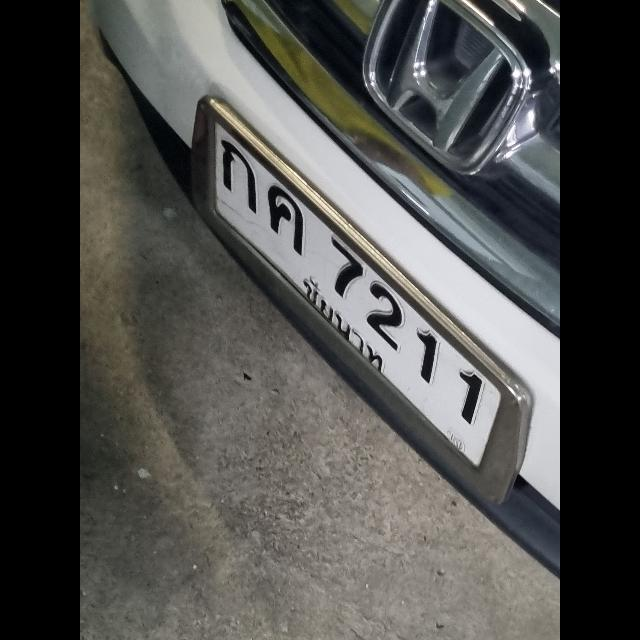licenseplate: (191, 92, 533, 514)
